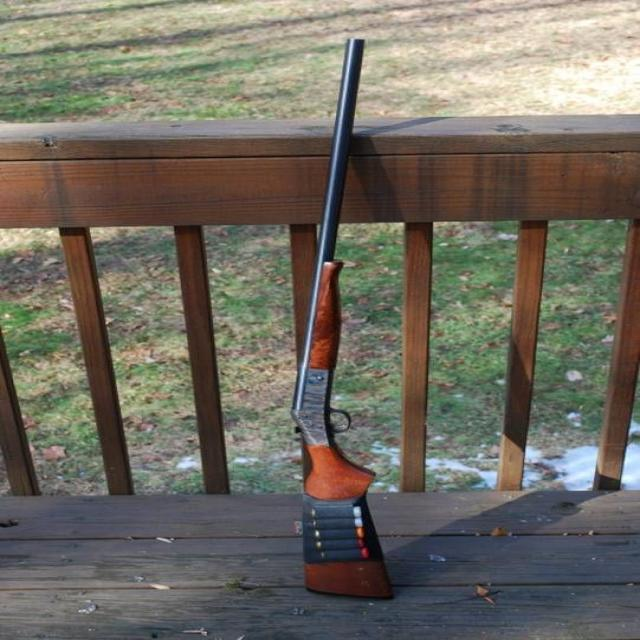shotgun: (231, 19, 514, 612)
